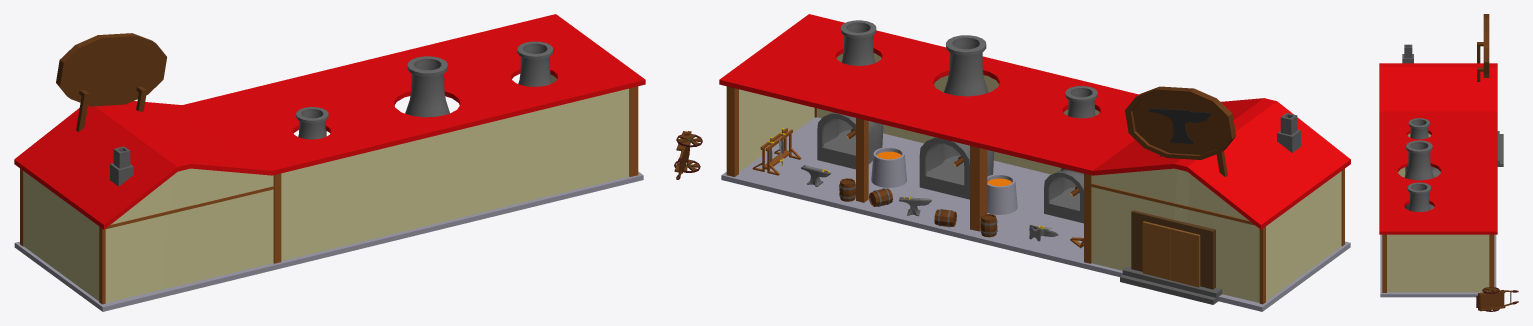
Rendered from forge (1).fbx.
The picture shows the model from 3 angles, left to right: view 1: azimuth 30°, elevation 25°; view 2: azimuth 150°, elevation 25°; view 3: azimuth 270°, elevation 25°; orthographic projection. The views are drawn at different scales.
Parts seen in each view (by area): view 1: walls.001, roof + mid pillars, sign, ground, forge.001, forge, forge.002, schoorsteen; view 2: roof + mid pillars, walls.001, ground, door, sign, forge.001, forge, forge.002, lava barrel, lava barrel.001, weapon stand.002, wagon.001 (+1 smaller); view 3: roof + mid pillars, walls.001, forge.001, ground, wagon.001, forge, sign, forge.002, door, schoorsteen.
Boxes of the visible parts, left/top/right/bottom form: walls.001: left=20, top=75, right=638, bottom=304; roof + mid pillars: left=14, top=14, right=645, bottom=229; sign: left=56, top=33, right=166, bottom=131; ground: left=14, top=172, right=643, bottom=311; forge.001: left=405, top=56, right=449, bottom=117; forge: left=517, top=41, right=553, bottom=86; forge.002: left=296, top=107, right=328, bottom=139; schoorsteen: left=110, top=146, right=133, bottom=186; roof + mid pillars: left=719, top=14, right=1350, bottom=231; walls.001: left=726, top=53, right=1344, bottom=304; ground: left=721, top=117, right=1350, bottom=311; door: left=1120, top=210, right=1222, bottom=304; sign: left=1125, top=86, right=1235, bottom=176; forge.001: left=919, top=35, right=994, bottom=199; forge: left=817, top=20, right=883, bottom=169; forge.002: left=1044, top=86, right=1097, bottom=223; lava barrel: left=871, top=147, right=906, bottom=187; lava barrel.001: left=987, top=174, right=1017, bottom=214; weapon stand.002: left=752, top=128, right=801, bottom=175; wagon.001: left=674, top=131, right=702, bottom=179; roof + mid pillars: left=1379, top=63, right=1497, bottom=234; walls.001: left=1382, top=133, right=1494, bottom=292; forge.001: left=1405, top=140, right=1434, bottom=209; ground: left=1380, top=234, right=1496, bottom=297; wagon.001: left=1476, top=287, right=1518, bottom=311; forge: left=1407, top=182, right=1431, bottom=211; sign: left=1477, top=14, right=1489, bottom=81; forge.002: left=1404, top=118, right=1440, bottom=177; door: left=1497, top=131, right=1503, bottom=166; schoorsteen: left=1402, top=44, right=1413, bottom=63.
Size of the model in its own units: 28.94 by 9.21 by 8.95.
